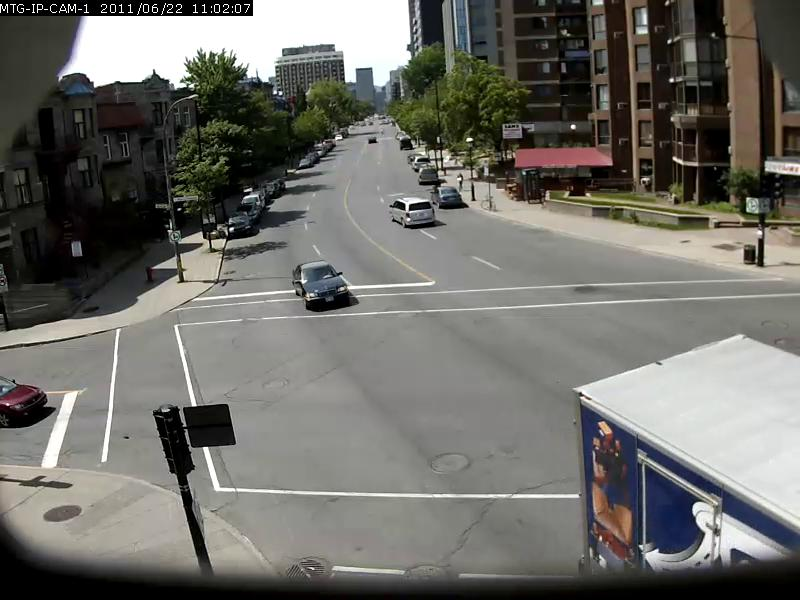Car: (291, 258, 350, 311), (1, 375, 49, 427), (389, 196, 435, 229), (224, 210, 254, 237)
